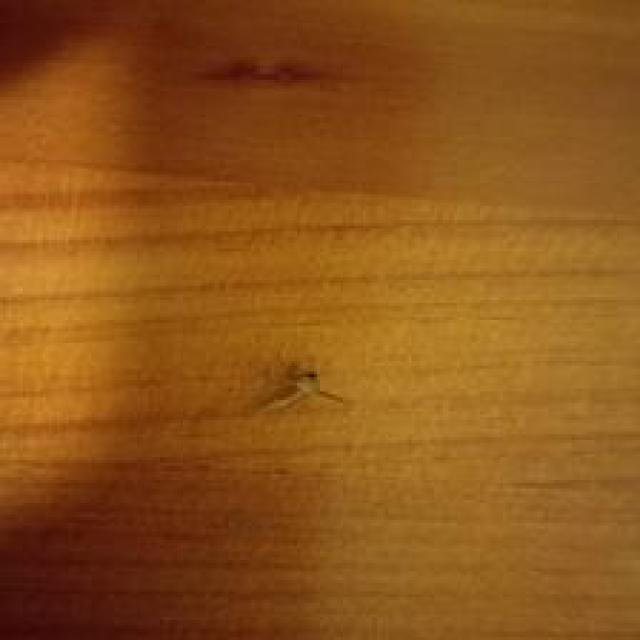Culex: (257, 367, 346, 416)
